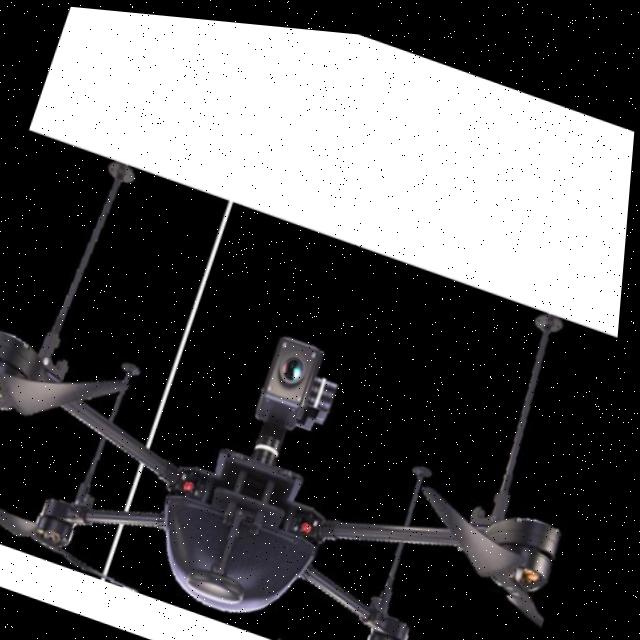drones: (0, 90, 634, 640)
